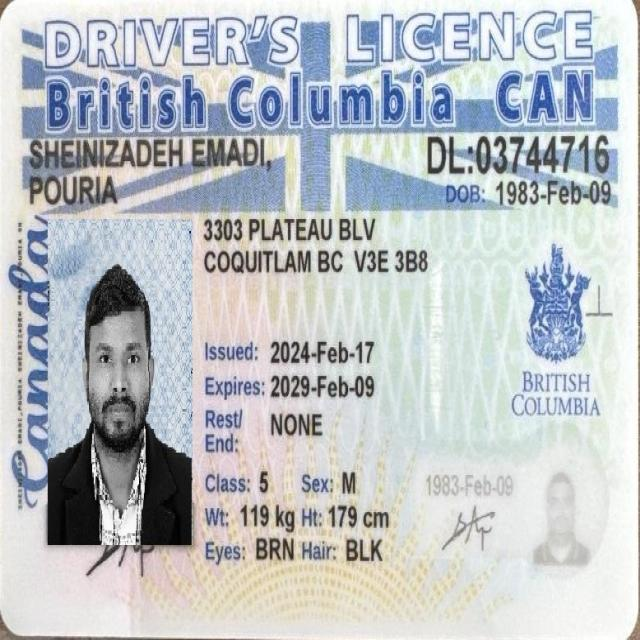Adidas: (4, 2, 638, 640), (44, 210, 196, 564)
